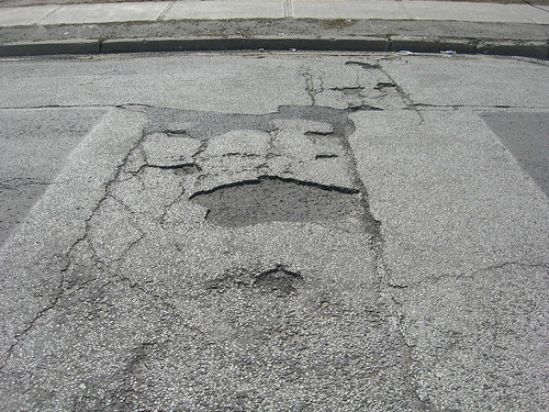pothole: (184, 171, 362, 228)
